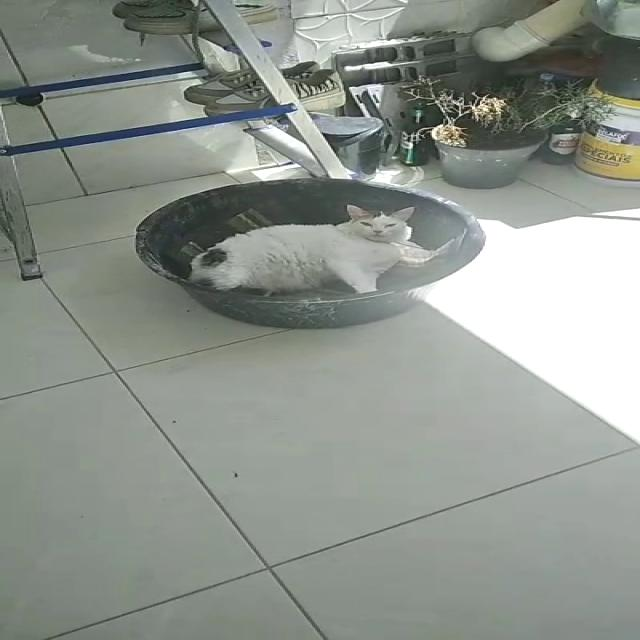Simba: (175, 198, 428, 310)
